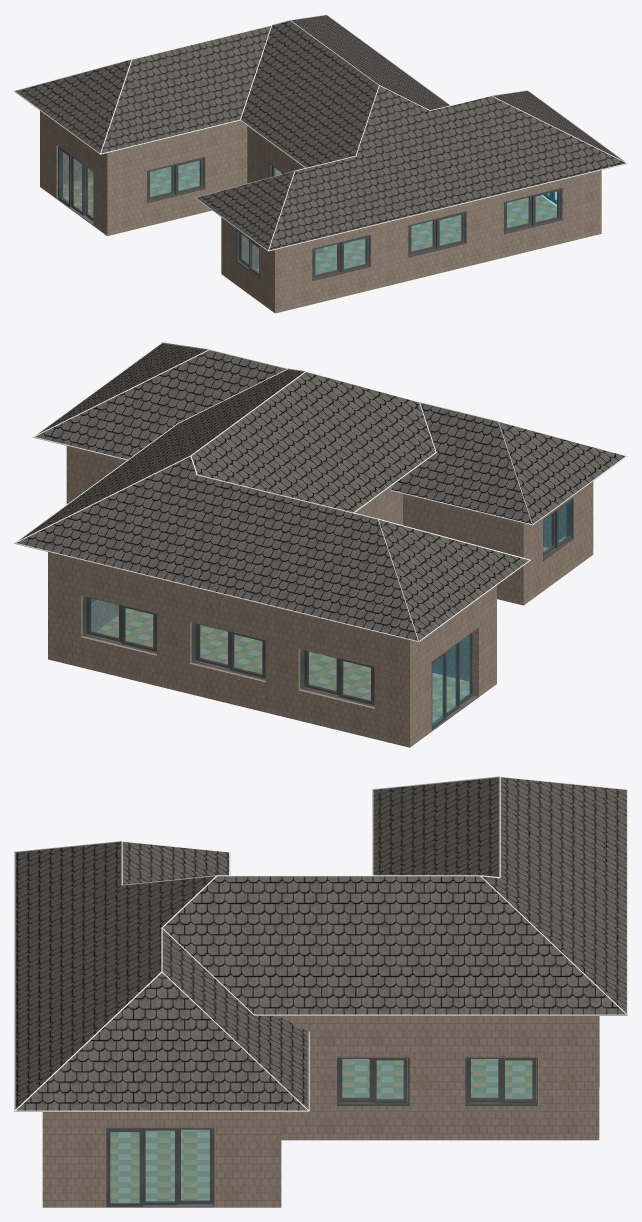
The model's file is telhado31a.glb.
The picture shows the model from 3 angles, top to bottom: view 1: azimuth 30°, elevation 25°; view 2: azimuth 150°, elevation 25°; view 3: azimuth 270°, elevation 25°; orthographic projection. The views are drawn at different scales.
Visible parts, largest first — view 1: root; view 2: root; view 3: root.
Boxes of the visible parts, left/top/right/bottom form: root: left=14, top=14, right=627, bottom=313; root: left=14, top=342, right=627, bottom=747; root: left=14, top=776, right=627, bottom=1207.
Bounding box in the file's own units: 17.43 × 5.95 × 15.43.
9 materials, 6 textured.
